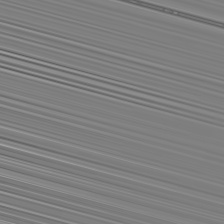cavities: (21, 56, 152, 224)
